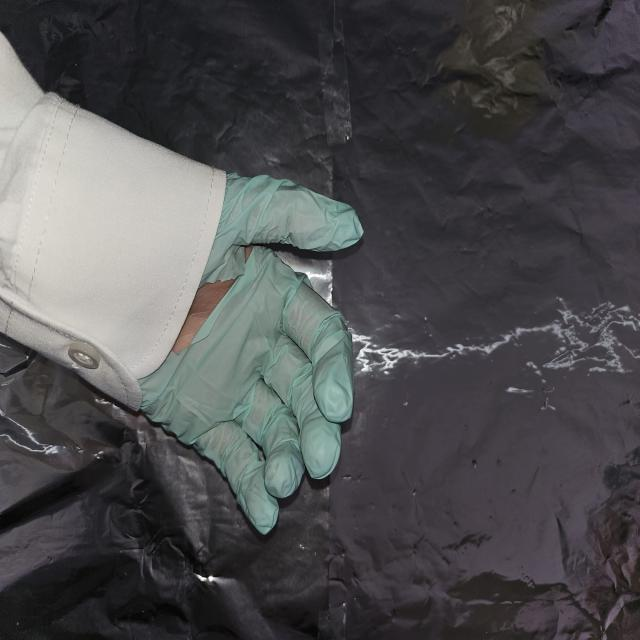gloves_damaged: (134, 170, 364, 532)
